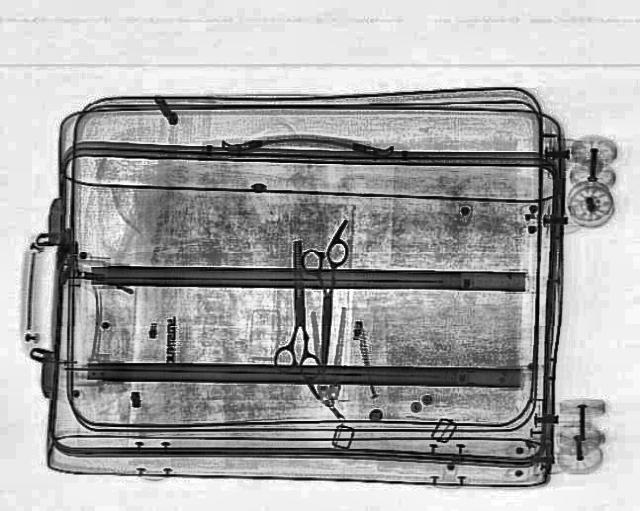Scissors: (272, 242, 320, 378), (297, 240, 348, 364)
